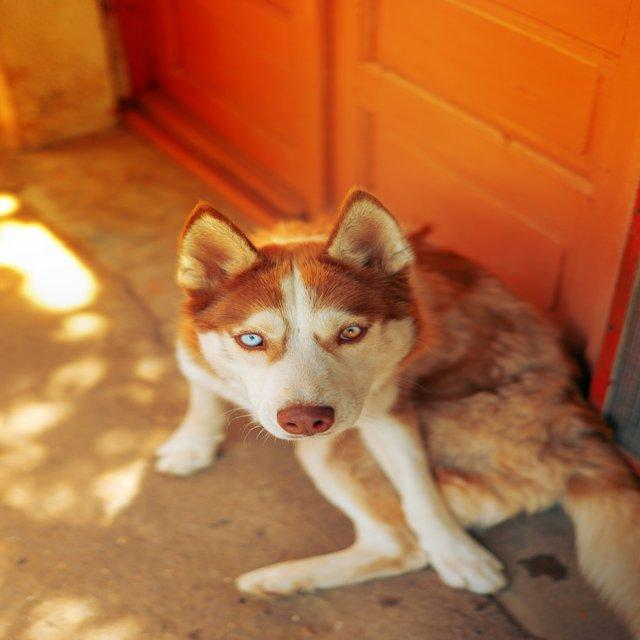husky: (153, 185, 638, 637)
